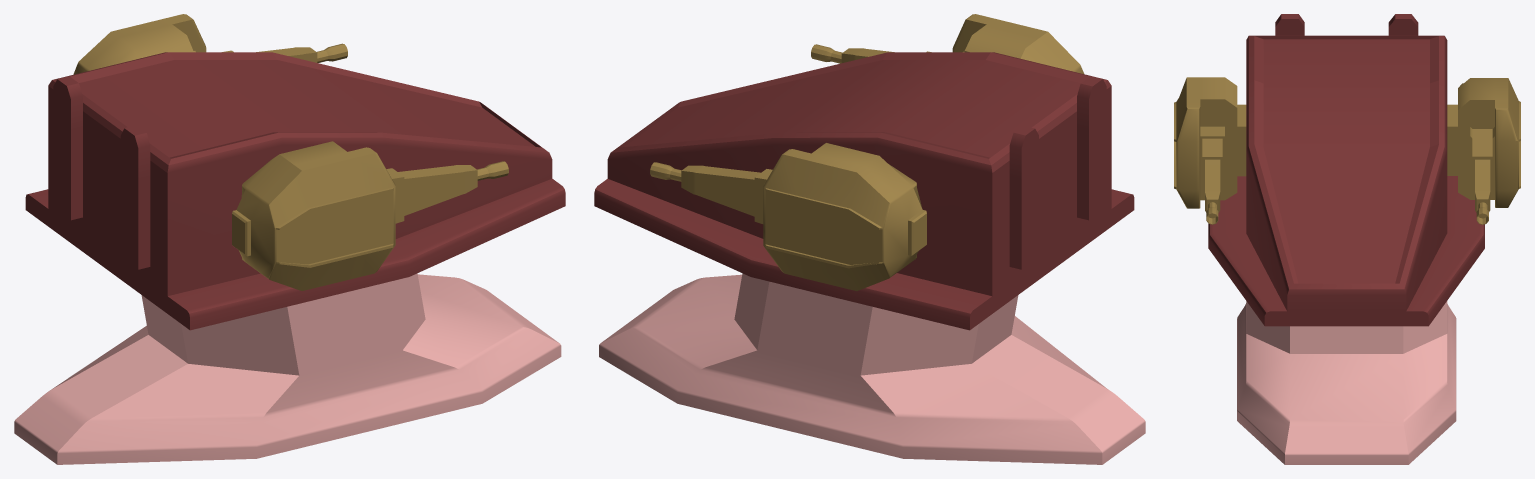
Rendered from AllyTurret.fbx.
3 renders of one model, left to right at view 1: azimuth 30°, elevation 25°; view 2: azimuth 150°, elevation 25°; view 3: azimuth 270°, elevation 25°, orthographic. The views are drawn at different scales.
Visible parts, largest first — view 1: TurretHead, TurretBody, TurretGuns; view 2: TurretHead, TurretBody, TurretGuns; view 3: TurretHead, TurretBody, TurretGuns.
Part boxes in pixels (x1,y1,x2,y2): TurretHead: (25, 52, 565, 330); TurretBody: (14, 273, 561, 464); TurretGuns: (73, 14, 508, 290); TurretHead: (594, 52, 1134, 330); TurretBody: (599, 273, 1145, 464); TurretGuns: (650, 14, 1084, 291); TurretHead: (1208, 14, 1484, 326); TurretBody: (1237, 301, 1456, 464); TurretGuns: (1174, 77, 1520, 224).
Bounding box in the file's own units: 34.02 × 21.77 × 24.88.
